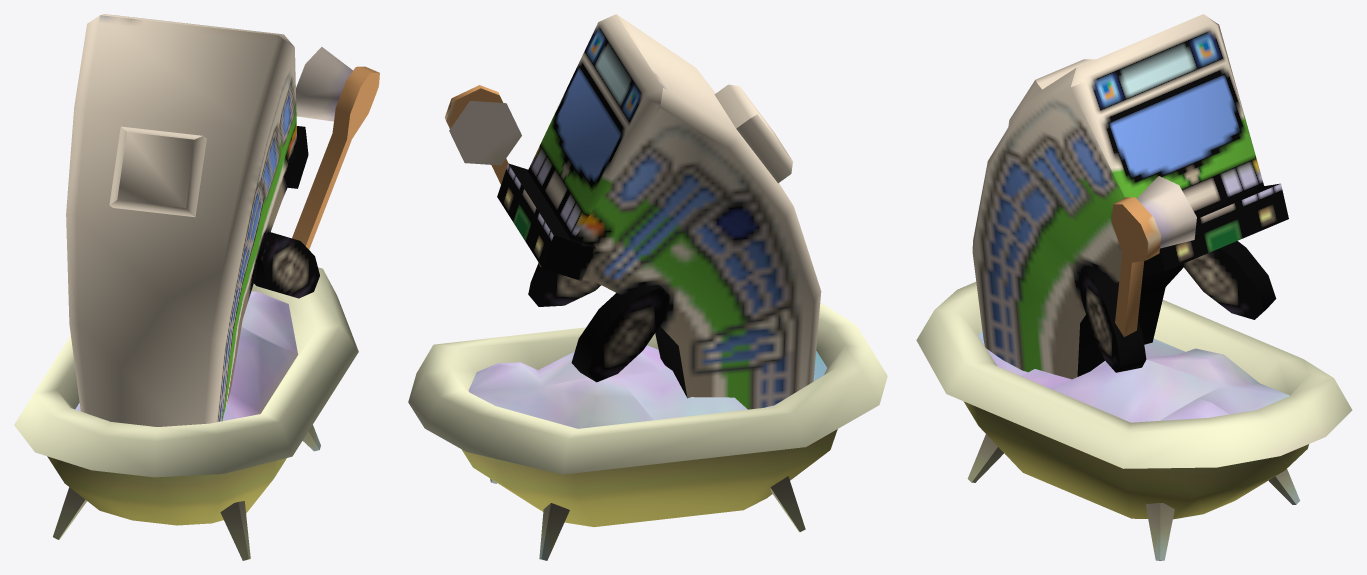
The model's file is b_icon.ico.obj.
3 renders of one model, left to right at view 1: azimuth 30°, elevation 25°; view 2: azimuth 150°, elevation 25°; view 3: azimuth 270°, elevation 25°, orthographic. The views are drawn at different scales.
Bounding box in the file's own units: 4.19 × 4.75 × 4.12.
